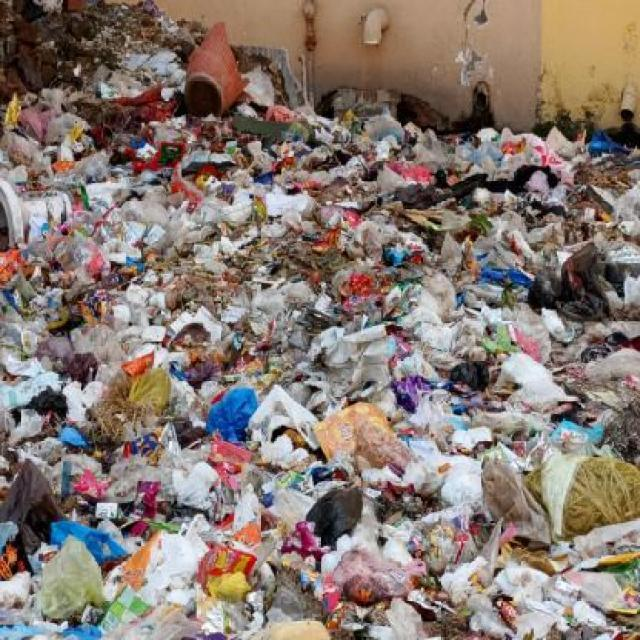garbage: (0, 124, 639, 640), (0, 2, 303, 116)
